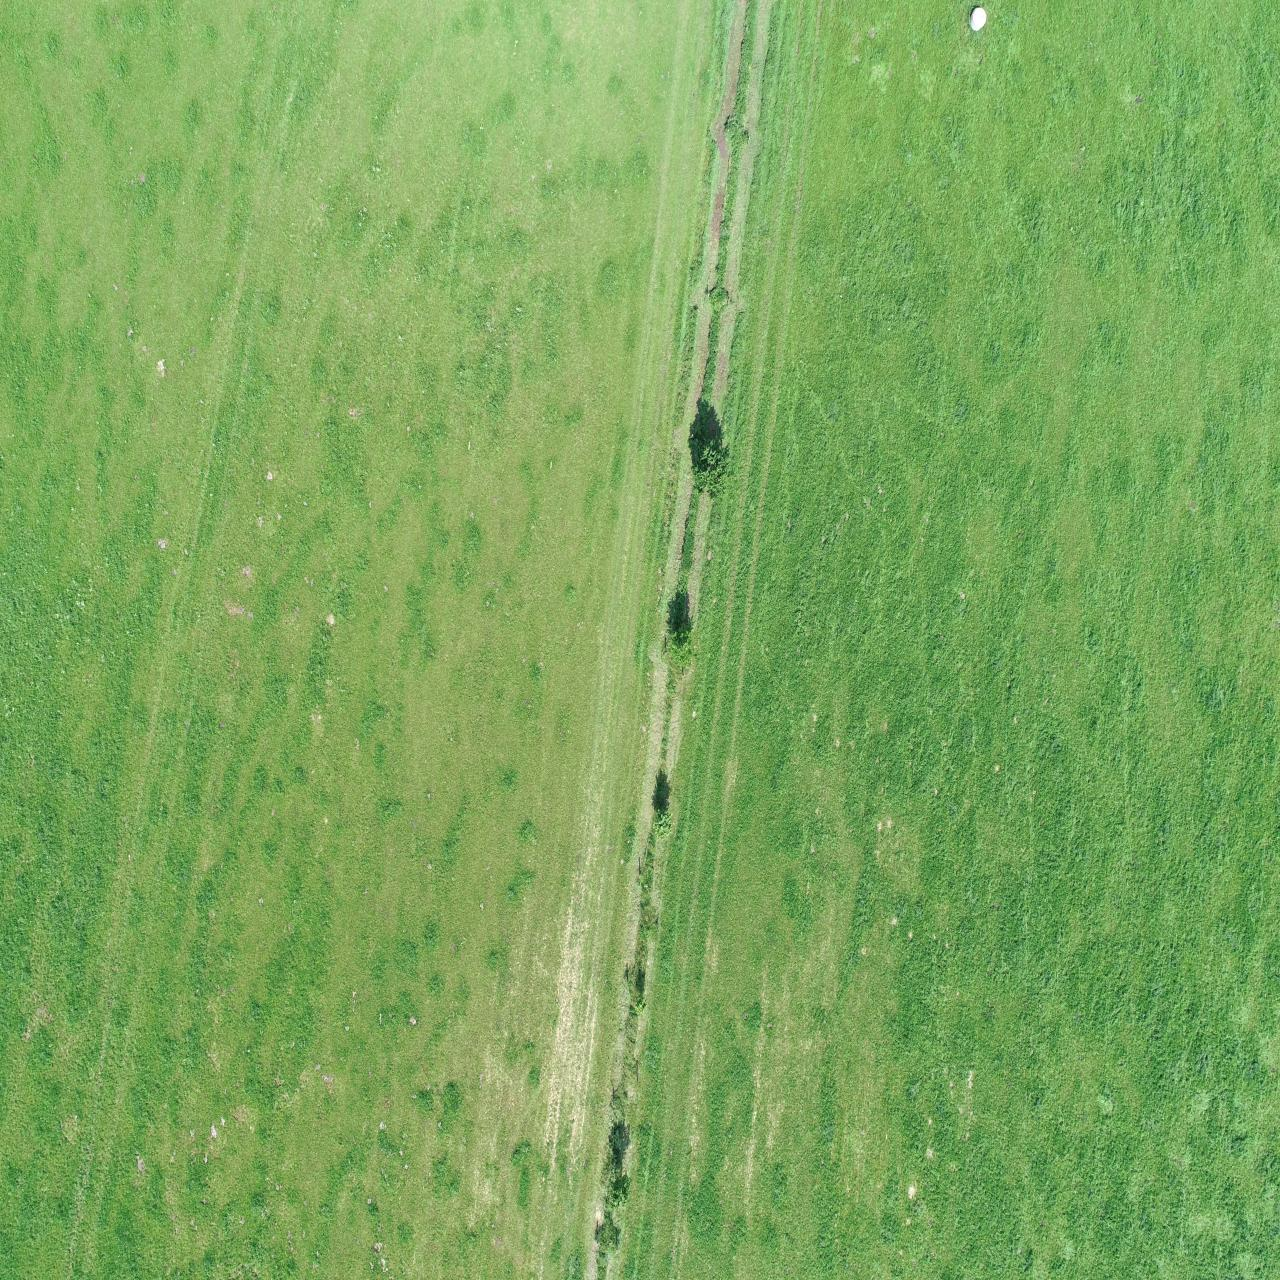cow: (1198, 1, 1235, 72), (1204, 222, 1237, 290), (1122, 86, 1158, 141), (782, 573, 802, 639)
